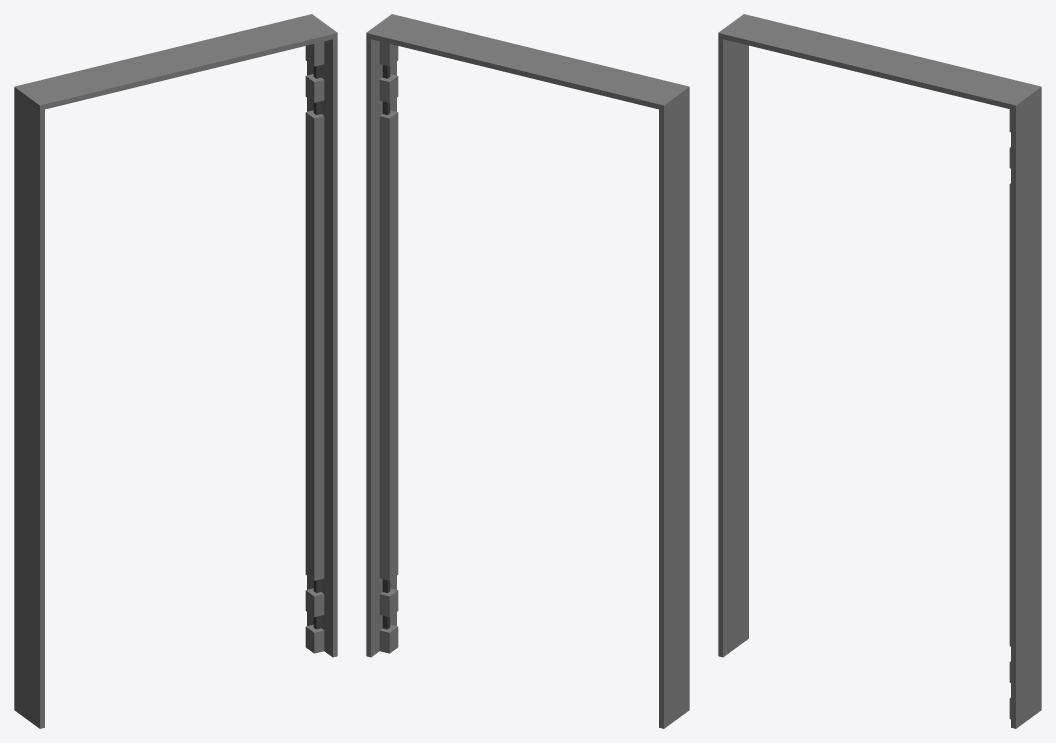
The model's file is Inside Door-0-Frame.obj.
3 views of the same model, side by side, from view 1: azimuth 30°, elevation 25°; view 2: azimuth 150°, elevation 25°; view 3: azimuth 330°, elevation 25° (orthographic).
Visible parts, largest first — view 1: Frame; view 2: Frame; view 3: Frame.
Boxes of the visible parts, <box> form: Frame: <box>14,14,337,728</box>; Frame: <box>366,14,689,728</box>; Frame: <box>718,14,1041,728</box>.
Size of the model in its own units: 6 by 12 by 0.9.
Materials: 1 (1 with a texture image).
